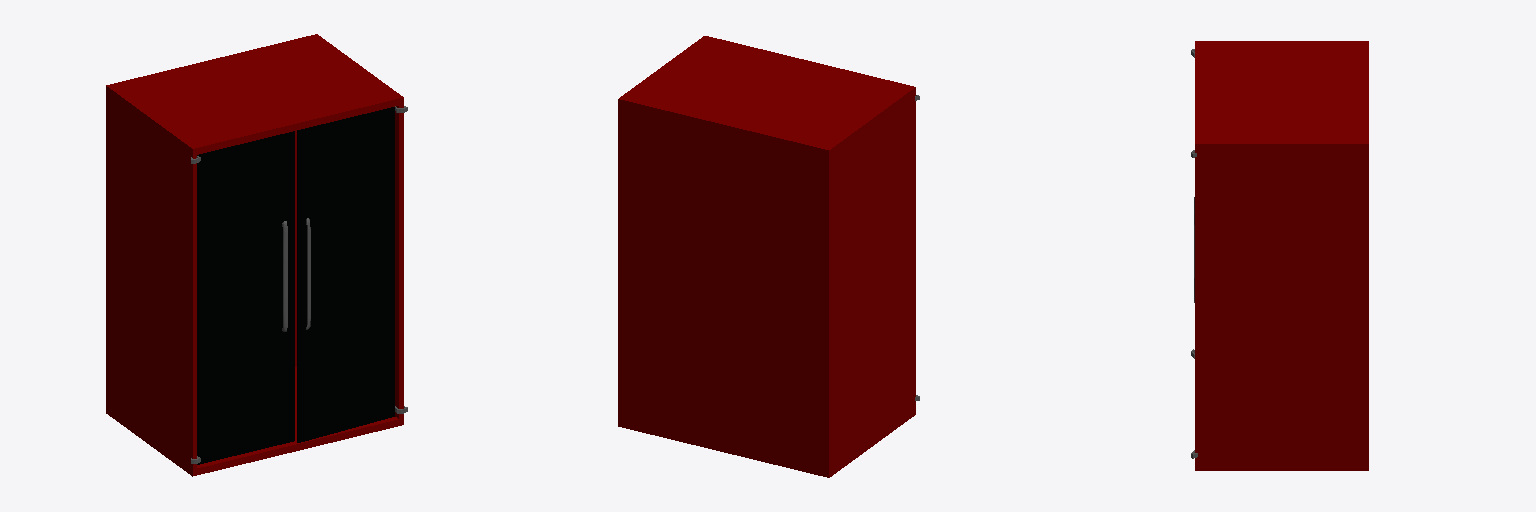
The model's file is Tool_Wall_Cabinet.obj.
3 views of the same model, side by side, from view 1: azimuth 30°, elevation 25°; view 2: azimuth 150°, elevation 25°; view 3: azimuth 270°, elevation 25° (orthographic).
Visible parts, largest first — view 1: Plane.001, Plane.002_Plane.007, Plane.006, Plane.005_Plane.008; view 2: Plane.001; view 3: Plane.001.
Boxes of the visible parts, x1,y1,x2,y2 form: Plane.001: [106, 34, 403, 476]; Plane.002_Plane.007: [297, 107, 394, 442]; Plane.006: [197, 131, 294, 464]; Plane.005_Plane.008: [282, 221, 287, 331]; Plane.001: [618, 36, 915, 477]; Plane.001: [1195, 41, 1368, 470].
Bounding box in the file's own units: 1.18 × 1.71 × 0.8418.